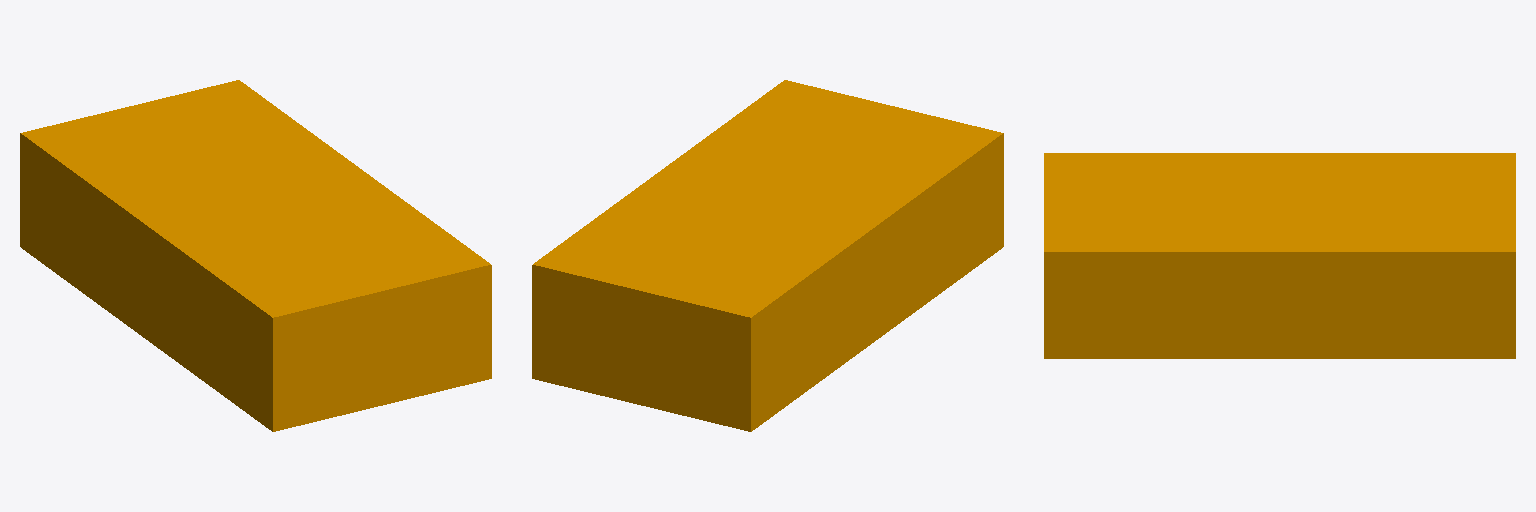
URDF robot description (StackingBrick):
<?xml version="1.0"?>
<robot xmlns="http://drake.mit.edu"
 xmlns:xsi="http://www.w3.org/2001/XMLSchema-instance"
 xsi:schemaLocation="http://drake.mit.edu ../../../doc/drakeURDF.xsd" name="StackingBrick">
  <link name="brick">
    <inertial>
      <mass value="1"/>
      <inertia ixx="2" ixy="0" ixz="0" iyy="1" iyz="0" izz="2"/>
    </inertial>
    <visual>
      <geometry>
        <box size="1 2 .5 " />
      </geometry>
    </visual>
    <collision>
      <geometry>
        <box size="1 2 .5" />
      </geometry>
    </collision>
  </link>
</robot>

--- Facts derived from the render (not from the file) ---
The picture shows the robot from 3 angles, left to right: view 1: azimuth 30°, elevation 25°; view 2: azimuth 150°, elevation 25°; view 3: azimuth 270°, elevation 25°; orthographic projection.
Model StackingBrick with 1 links and 0 joints (none), rooted at brick, posed all joints at 0.
Links seen in each view (by area): view 1: brick; view 2: brick; view 3: brick.
Link boxes in pixels (x1,y1,x2,y2): brick: [20, 80, 491, 431]; brick: [532, 80, 1003, 431]; brick: [1044, 153, 1515, 358].
Size in the robot's own frame: 1 by 2 by 0.5 metres.
Geometry: primitives only (box / cylinder / sphere), no mesh files.
